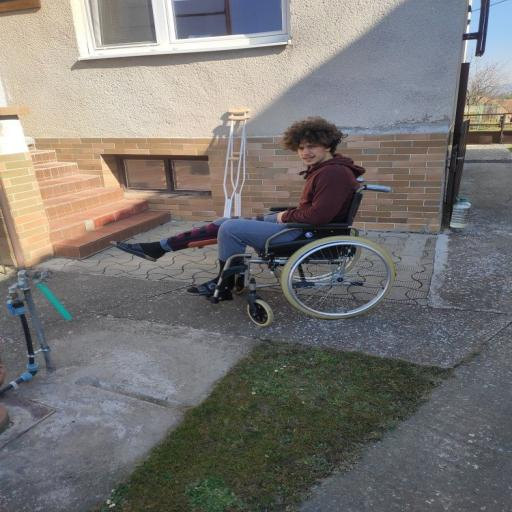laptop: (114, 118, 365, 300)
sofa: (31, 150, 169, 258)
wheelchair: (210, 185, 394, 326)
